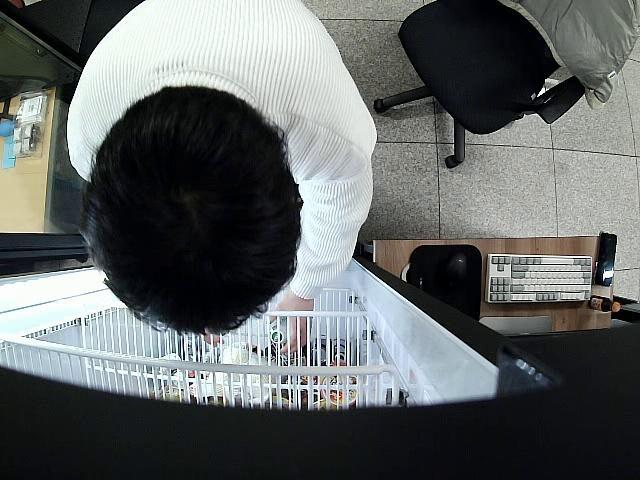18_trevi: (272, 318, 296, 347)
